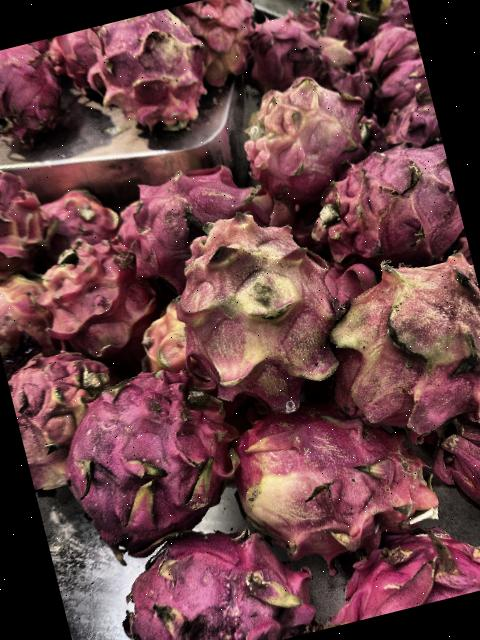buah-naga-belum-matang: (218, 375, 444, 566), (157, 194, 351, 412), (308, 234, 480, 456), (73, 4, 213, 140), (230, 70, 376, 190), (8, 338, 120, 485), (32, 240, 153, 362), (0, 270, 68, 360), (136, 306, 195, 371)
buah-naga-matang: (46, 344, 236, 541), (114, 492, 334, 640), (290, 129, 470, 289), (110, 142, 292, 266), (326, 515, 480, 623), (0, 31, 102, 160), (246, 5, 334, 97), (173, 0, 269, 84), (363, 46, 440, 144), (0, 153, 61, 271), (34, 182, 125, 258), (362, 18, 424, 76)
